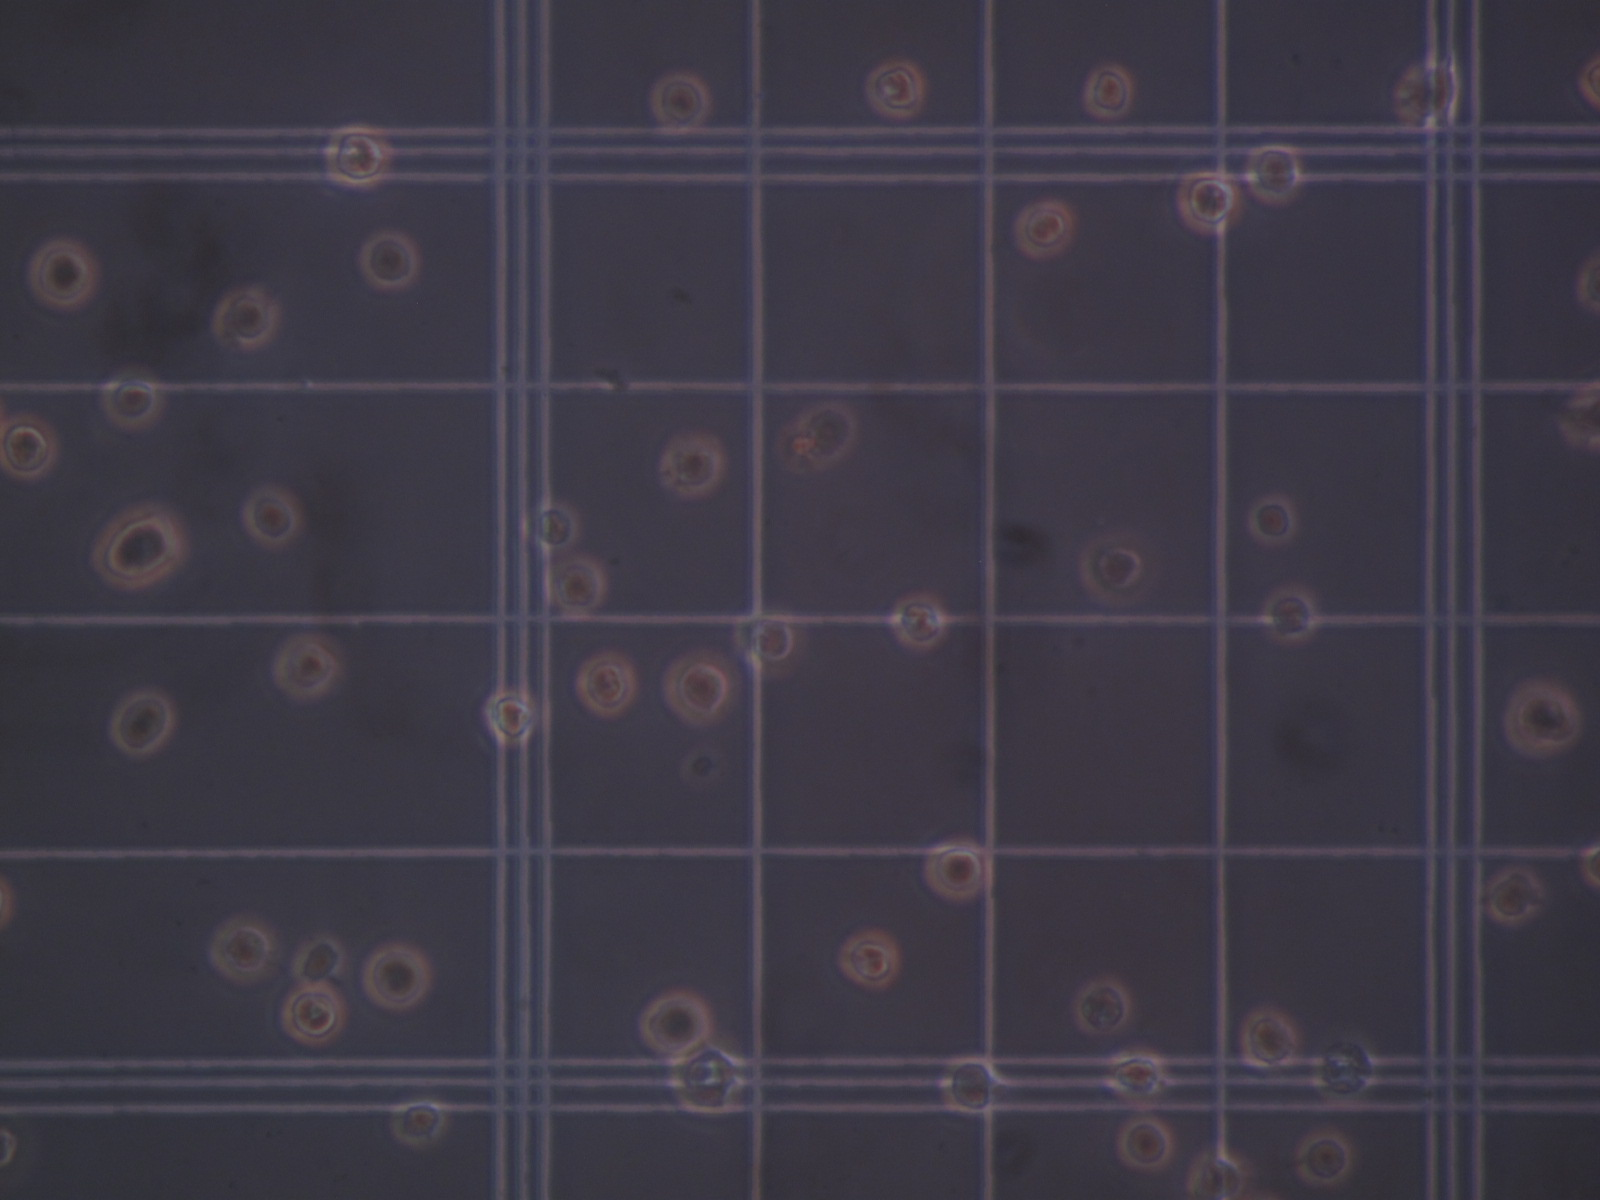hemo: (88, 502, 191, 587), (1504, 683, 1579, 755), (661, 649, 731, 724), (671, 1047, 741, 1121), (1080, 533, 1143, 610), (30, 237, 94, 311), (641, 989, 711, 1056), (1395, 54, 1458, 127), (923, 834, 991, 901), (210, 914, 278, 981), (110, 689, 174, 760), (278, 982, 345, 1047), (363, 945, 430, 1011), (323, 125, 392, 188), (574, 649, 636, 718), (1175, 171, 1242, 234), (1010, 197, 1073, 262), (661, 434, 724, 499), (213, 284, 278, 347), (648, 76, 709, 136), (839, 929, 901, 989), (105, 366, 163, 430), (359, 232, 423, 290), (275, 633, 334, 695), (1240, 1007, 1298, 1070), (241, 485, 299, 547), (866, 59, 925, 118), (1, 416, 58, 478), (889, 592, 945, 654), (1247, 142, 1301, 205), (944, 1055, 998, 1118), (797, 403, 855, 461), (1072, 981, 1131, 1036), (549, 557, 609, 613), (479, 689, 539, 744), (1298, 1127, 1352, 1185), (1320, 1036, 1373, 1095), (1557, 381, 1600, 453), (1264, 587, 1317, 645), (1117, 1116, 1172, 1170), (1488, 863, 1538, 921), (1191, 1155, 1254, 1200), (1246, 492, 1295, 550), (530, 500, 580, 552), (1085, 66, 1133, 118), (391, 1097, 443, 1145), (1107, 1053, 1163, 1095), (750, 616, 795, 666)
